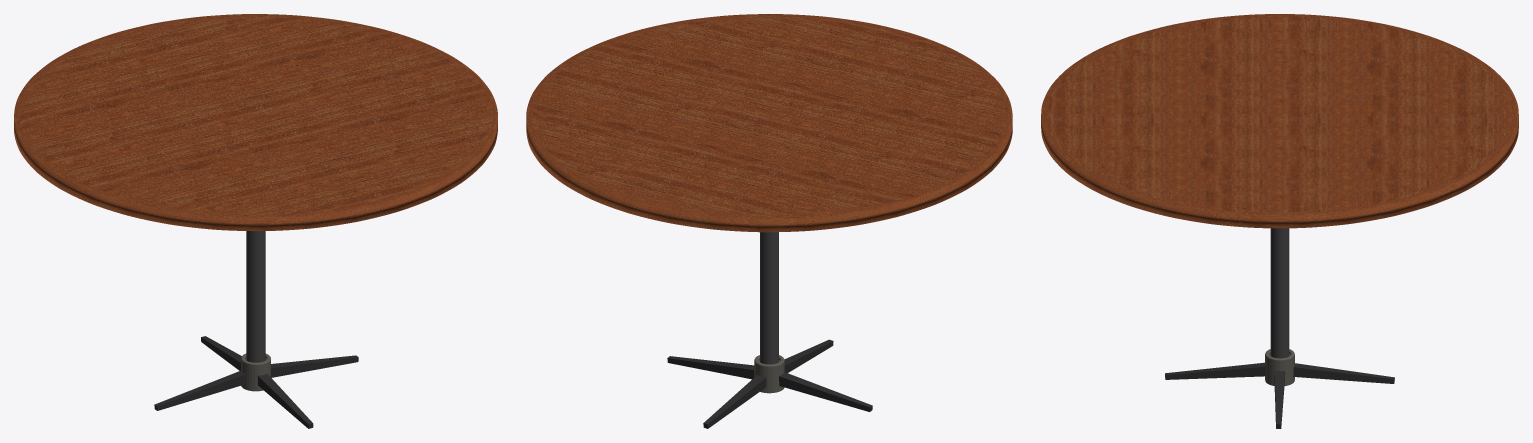
3 views of the same model, side by side, from view 1: azimuth 30°, elevation 25°; view 2: azimuth 150°, elevation 25°; view 3: azimuth 270°, elevation 25° (orthographic).
Parts seen in each view (by area): view 1: Cylinder_0, Cylinder.001_1, Cube_3, Cube.001_4, Cylinder.002_2; view 2: Cylinder_0, Cylinder.001_1, Cube_3, Cube.001_4, Cylinder.002_2; view 3: Cylinder_0, Cylinder.001_1, Cube.001_4, Cylinder.002_2, Cube_3.
Boxes of the visible parts, x1=… form: Cylinder_0: x1=14, y1=14, x2=497, y2=231; Cylinder.001_1: x1=246, y1=231, x2=265, y2=362; Cube_3: x1=154, y1=355, x2=358, y2=410; Cube.001_4: x1=201, y1=336, x2=313, y2=428; Cylinder.002_2: x1=241, y1=353, x2=270, y2=391; Cylinder_0: x1=526, y1=14, x2=1012, y2=232; Cylinder.001_1: x1=760, y1=232, x2=778, y2=364; Cube_3: x1=667, y1=356, x2=872, y2=411; Cube.001_4: x1=703, y1=339, x2=833, y2=428; Cylinder.002_2: x1=754, y1=355, x2=784, y2=393; Cylinder_0: x1=1041, y1=14, x2=1518, y2=228; Cylinder.001_1: x1=1270, y1=228, x2=1289, y2=358; Cube.001_4: x1=1165, y1=362, x2=1394, y2=383; Cylinder.002_2: x1=1265, y1=349, x2=1294, y2=385; Cube_3: x1=1274, y1=370, x2=1285, y2=428.
Size of the model in its own units: 1.99 by 1.22 by 1.99.
4 materials, 1 textured.
